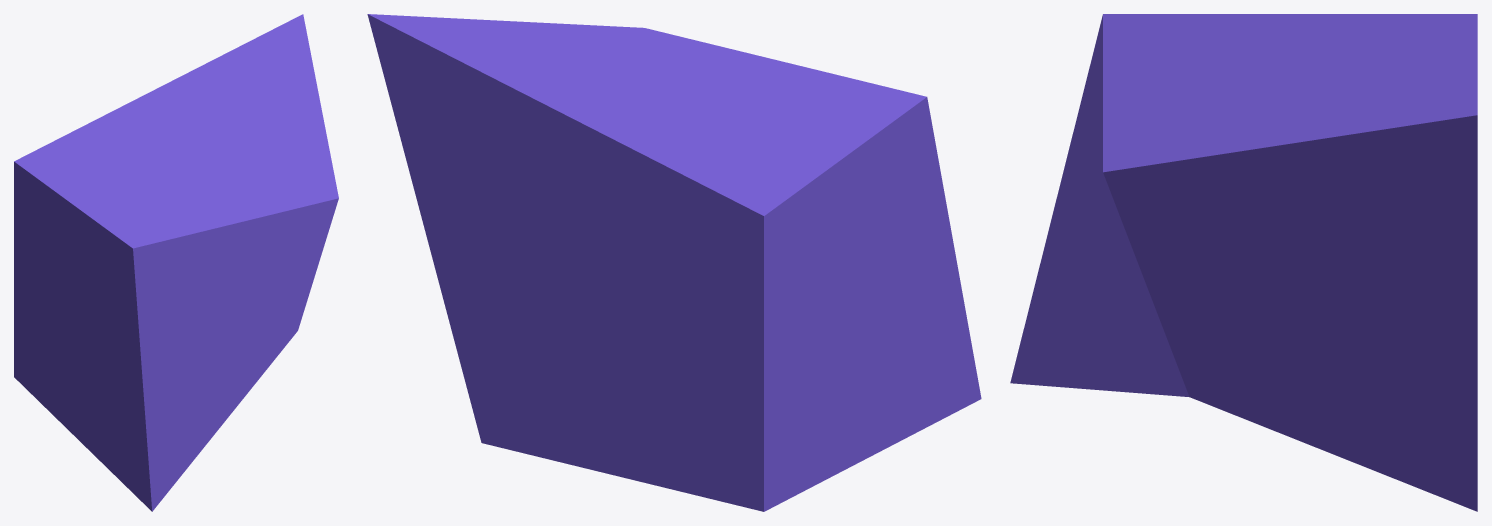
Rendered from demo_scene2.glb.
3 views of the same model, side by side, from view 1: azimuth 30°, elevation 25°; view 2: azimuth 150°, elevation 25°; view 3: azimuth 270°, elevation 25° (orthographic). The views are drawn at different scales.
Parts seen in each view (by area): view 1: Cube; view 2: Cube; view 3: Cube.
Part boxes in pixels (<box>): Cube: <box>14,14,338,511</box>; Cube: <box>367,14,981,511</box>; Cube: <box>1010,14,1477,511</box>.
Bounding box in the file's own units: 2.91 × 2.93 × 2.5.
